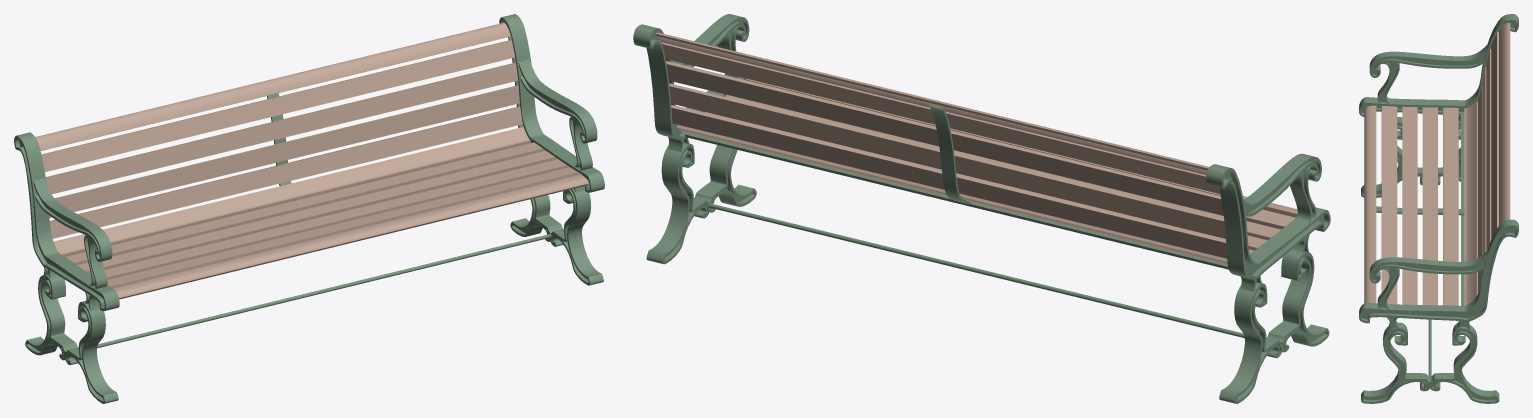
File: 980_garden_bench.glb
3 views of the same model, side by side, from view 1: azimuth 30°, elevation 25°; view 2: azimuth 150°, elevation 25°; view 3: azimuth 270°, elevation 25° (orthographic). The views are drawn at different scales.
Visible parts, largest first — view 1: Body, armrest2, armrest1; view 2: Body, armrest1, armrest2; view 3: Body, armrest2, armrest1.
Part boxes in pixels (x1,y1,x2,y2): Body: (14, 14, 604, 403); armrest2: (518, 59, 597, 170); armrest1: (33, 178, 112, 288); Body: (633, 24, 1330, 403); armrest1: (1243, 153, 1321, 224); armrest2: (671, 14, 749, 78); Body: (1359, 14, 1518, 403); armrest2: (1369, 250, 1487, 309); armrest1: (1369, 44, 1487, 103).
Size of the model in its own units: 1.82 by 0.717 by 0.5813.
